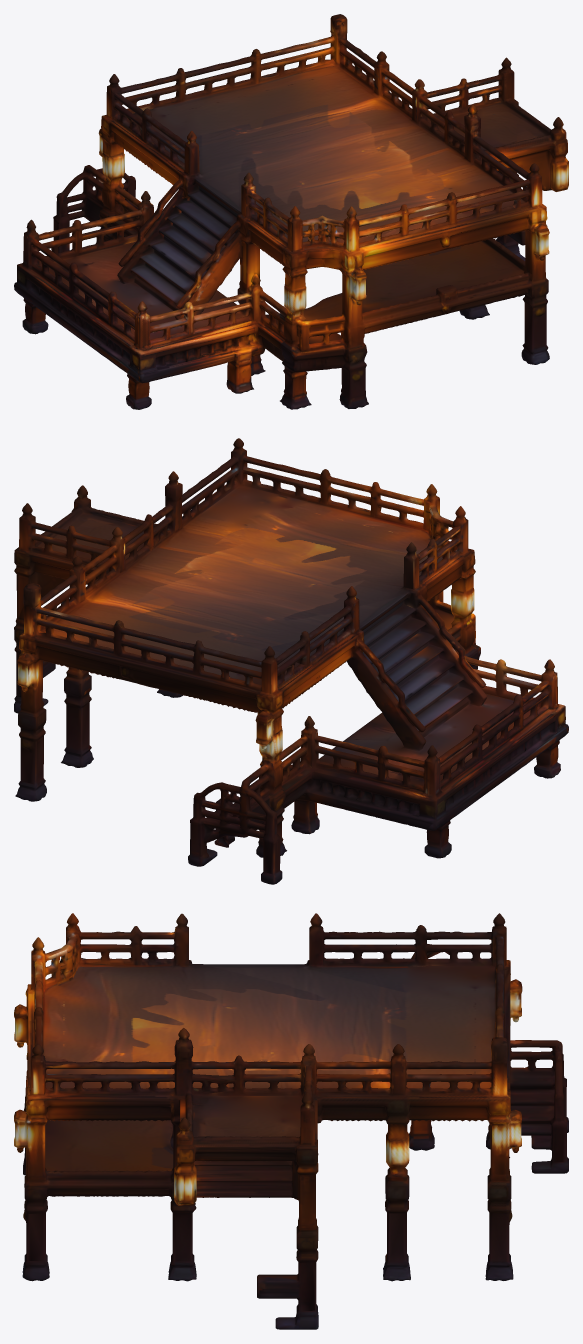
File: DoubleStaresBase.fbx
3 renders of one model, top to bottom at view 1: azimuth 30°, elevation 25°; view 2: azimuth 150°, elevation 25°; view 3: azimuth 270°, elevation 25°, orthographic. The views are drawn at different scales.
Visible parts, largest first — view 1: node_0; view 2: node_0; view 3: node_0.
Part boxes in pixels (x1=…): node_0: x1=14, y1=14, x2=568, y2=409; node_0: x1=14, y1=438, x2=568, y2=884; node_0: x1=14, y1=913, x2=568, y2=1329.
Bounding box in the file's own units: 102 × 45.52 × 92.27.
1 material, 1 textured.
